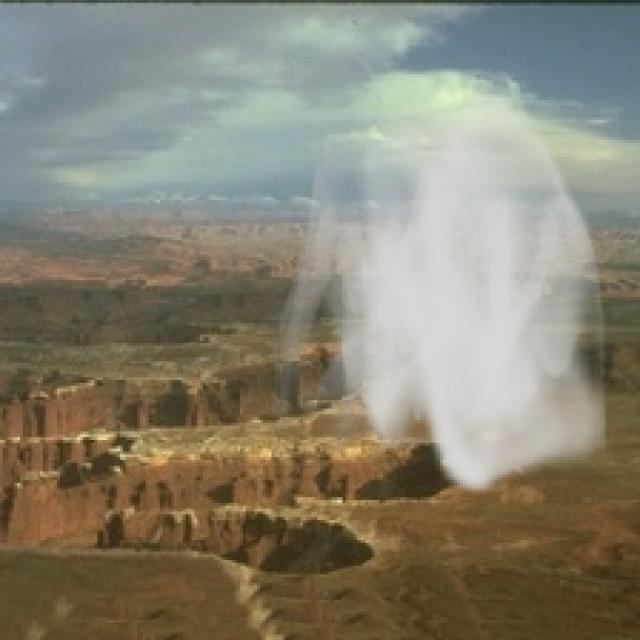Smoke: (268, 77, 618, 497)
